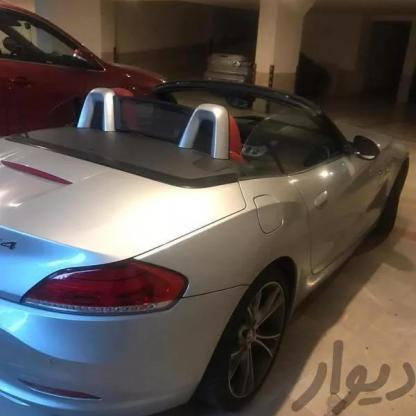Car: (0, 66, 416, 416), (0, 0, 167, 171)
